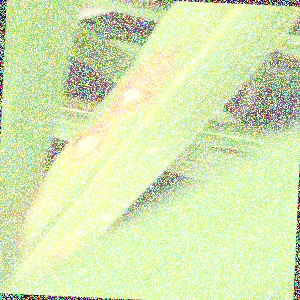Brown_Spot: (109, 41, 182, 117), (62, 122, 114, 167)
